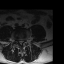CCS_stenosis: (20, 39, 22, 46)
LFS_severe_stenosis: (23, 38, 25, 43)
LLS_stenosis: (21, 38, 23, 44)
RFS_severe_stenosis: (16, 38, 18, 43)
RLS_stenosis: (18, 38, 20, 44)
